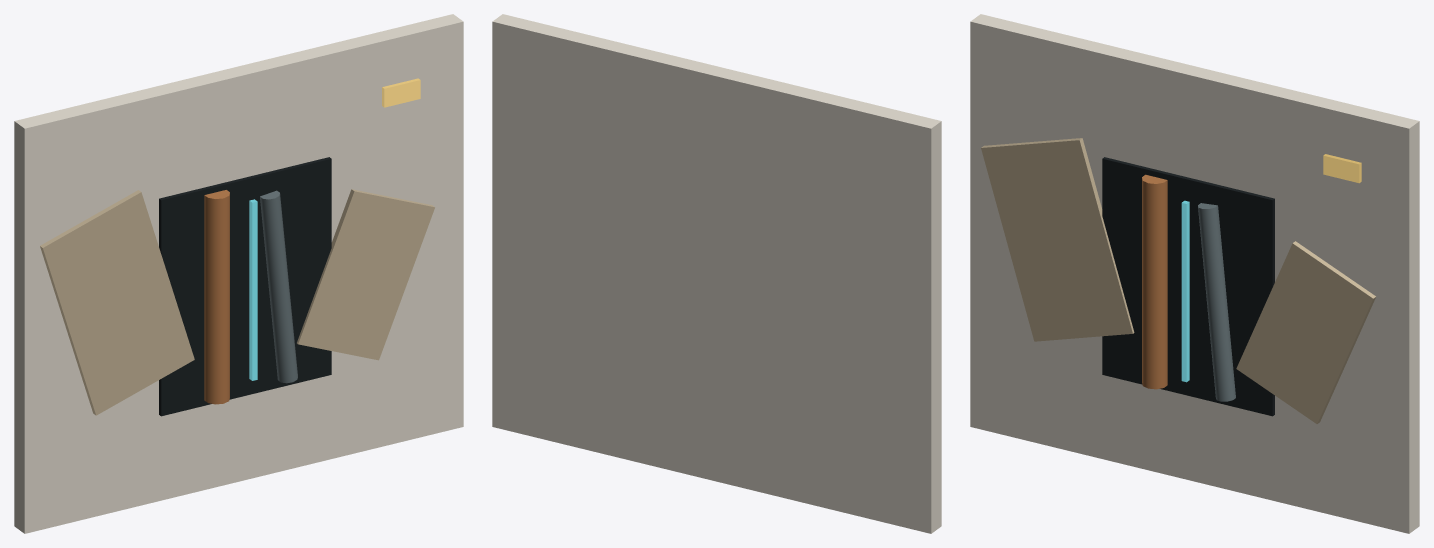
The model's file is hp_room_rm_home_wall_rupture.glb.
The picture shows the model from 3 angles, left to right: view 1: azimuth 30°, elevation 25°; view 2: azimuth 150°, elevation 25°; view 3: azimuth 330°, elevation 25°; orthographic projection.
Parts seen in each view (by area): view 1: wall_section, cavity, flap_left, flap_right, conduit_a, conduit_b, live_wire_glow, inspection_tag; view 2: wall_section; view 3: wall_section, cavity, flap_left, flap_right, conduit_a, conduit_b, live_wire_glow, inspection_tag.
Part boxes in pixels (box(x1,y1,x2,y2)): wall_section: box(14, 14, 463, 533); cavity: box(159, 157, 331, 416); flap_left: box(40, 190, 194, 415); flap_right: box(297, 189, 434, 360); conduit_a: box(204, 190, 229, 404); conduit_b: box(260, 190, 297, 383); live_wire_glow: box(249, 199, 257, 380); inspection_tag: box(382, 78, 420, 107); wall_section: box(492, 14, 941, 533); wall_section: box(970, 14, 1419, 533); cavity: box(1102, 157, 1274, 416); flap_left: box(981, 138, 1134, 341); flap_right: box(1236, 241, 1376, 423); conduit_a: box(1142, 174, 1167, 389); conduit_b: box(1198, 203, 1235, 401); live_wire_glow: box(1181, 200, 1189, 382); inspection_tag: box(1323, 154, 1361, 183).
Bounding box in the file's own units: 1.7 × 1.5 × 0.14.
